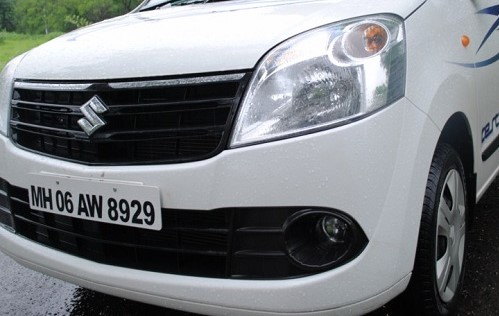MH06AW8929: (28, 174, 161, 231)
